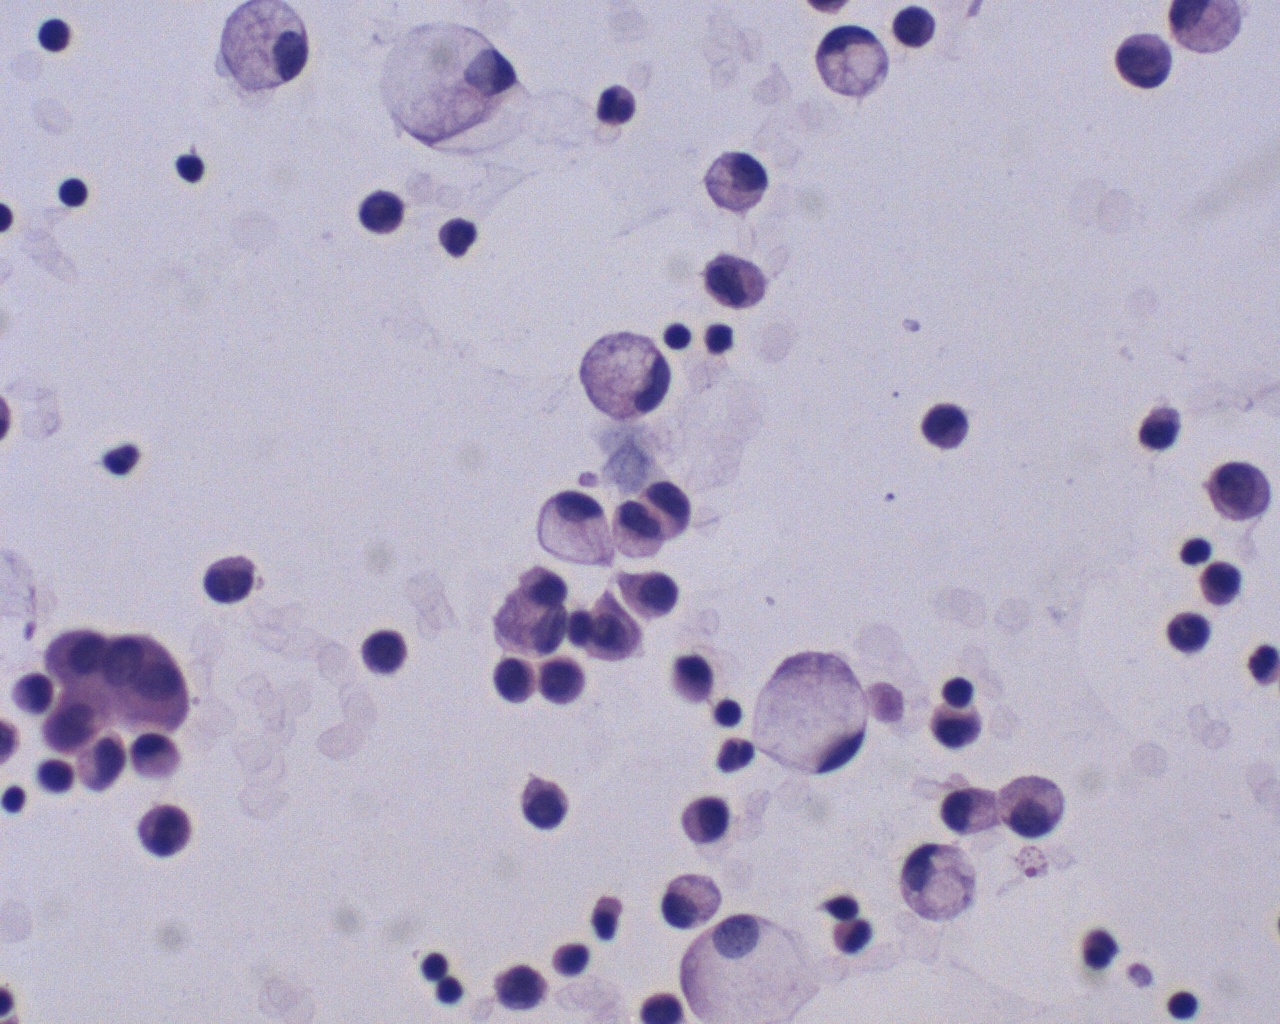ab: (37, 686, 113, 760), (1207, 456, 1276, 526), (517, 771, 583, 838), (351, 620, 416, 685), (200, 546, 267, 606), (534, 649, 594, 713), (132, 799, 194, 859), (356, 181, 414, 241)
histo: (376, 13, 517, 149), (757, 642, 877, 785), (678, 910, 823, 1024), (204, 1, 316, 103), (565, 325, 676, 423), (898, 841, 980, 927), (810, 19, 894, 100), (531, 486, 615, 567), (700, 148, 772, 217)
lymph: (34, 11, 78, 63), (940, 667, 983, 712), (1165, 982, 1206, 1022), (53, 172, 94, 210), (711, 689, 745, 731), (173, 150, 213, 186), (416, 947, 452, 983), (659, 317, 694, 354)
meso: (996, 767, 1069, 839), (1114, 28, 1178, 95)
neutro: (709, 730, 761, 783), (594, 82, 641, 130)
